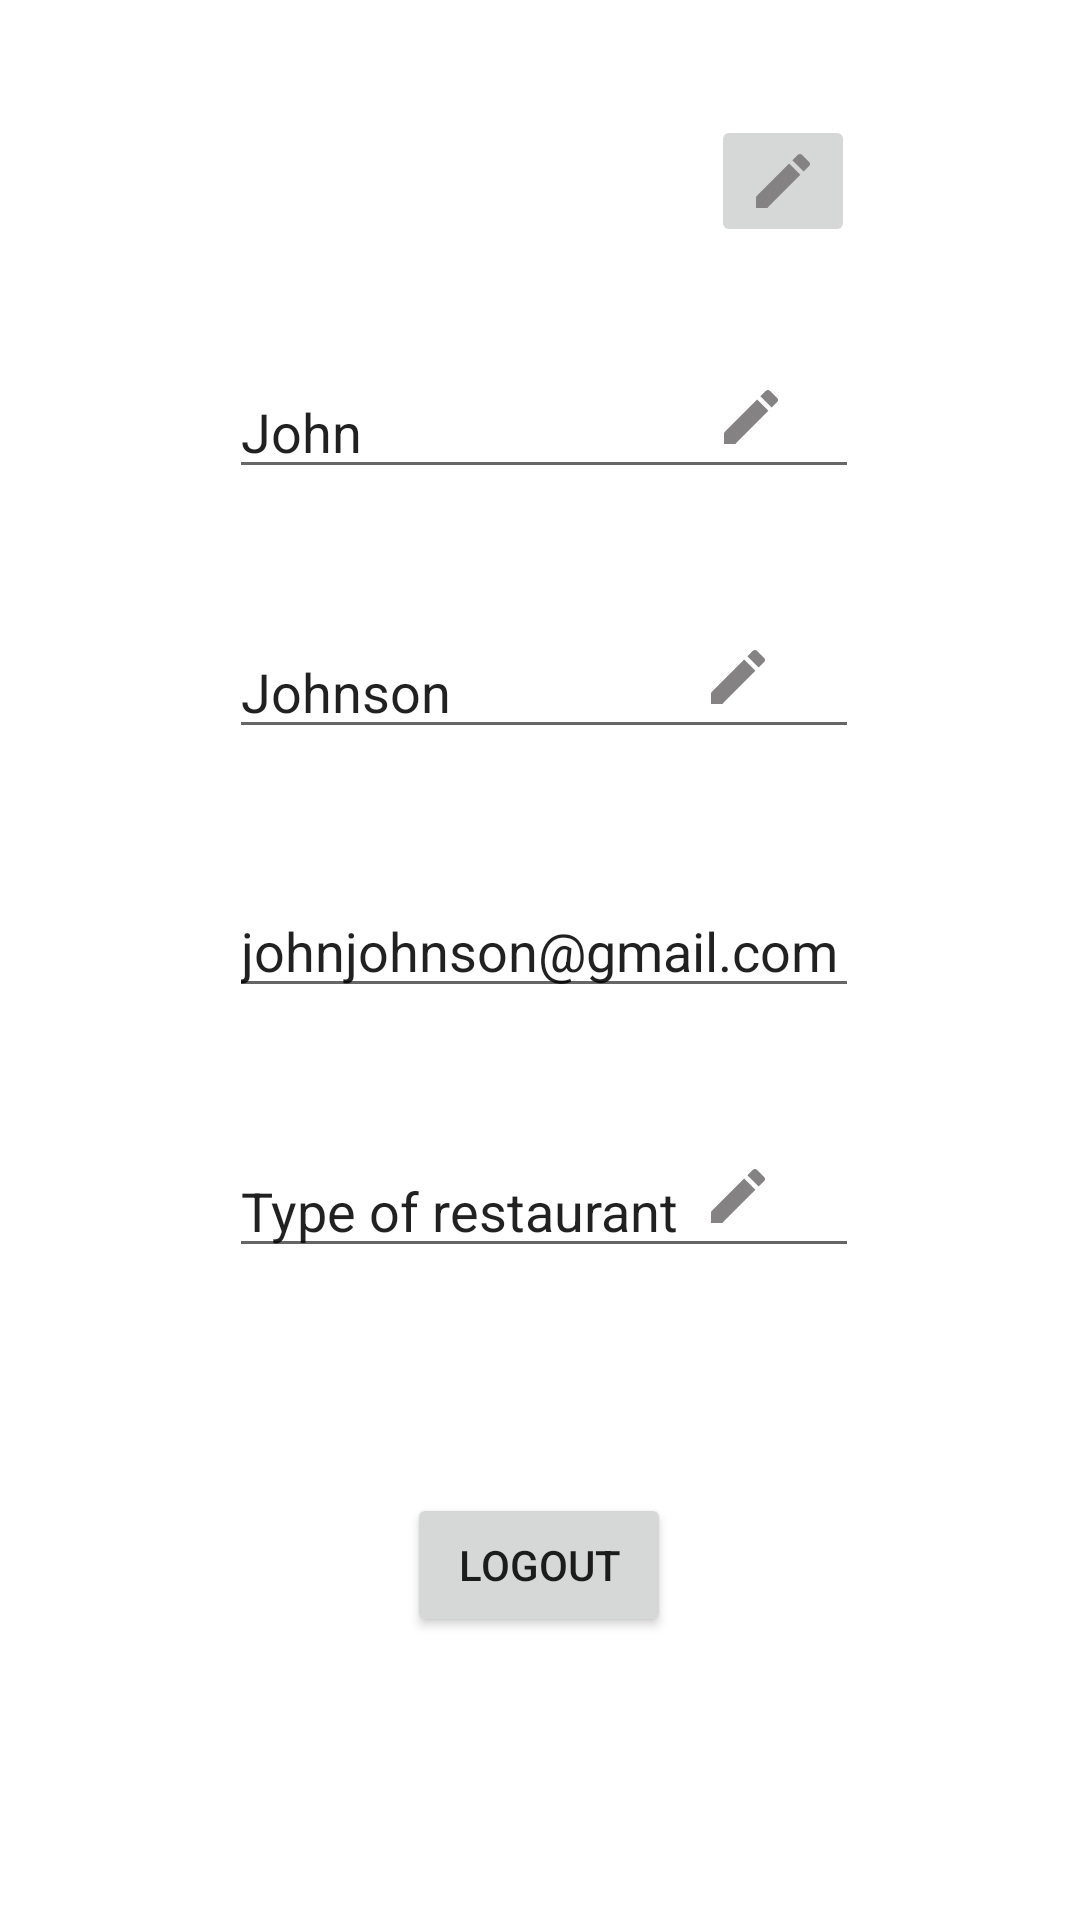

Icon click points for this 1080px x 1920px phone screenshot, format [x,y]:
edit: [783,181]
